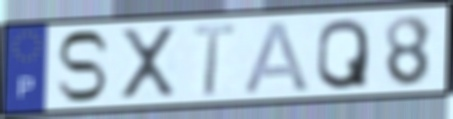8: (382, 13, 432, 88)
A: (240, 18, 313, 95)
Q: (314, 16, 371, 92)
S: (53, 28, 112, 105)
T: (191, 21, 238, 99)
X: (117, 24, 178, 103)
